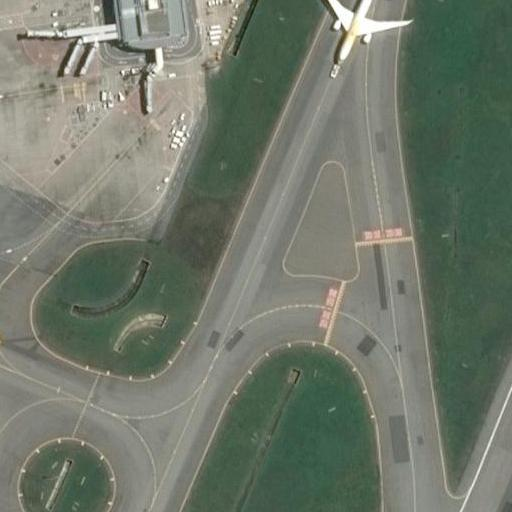Aircraft: (316, 0, 414, 73)
